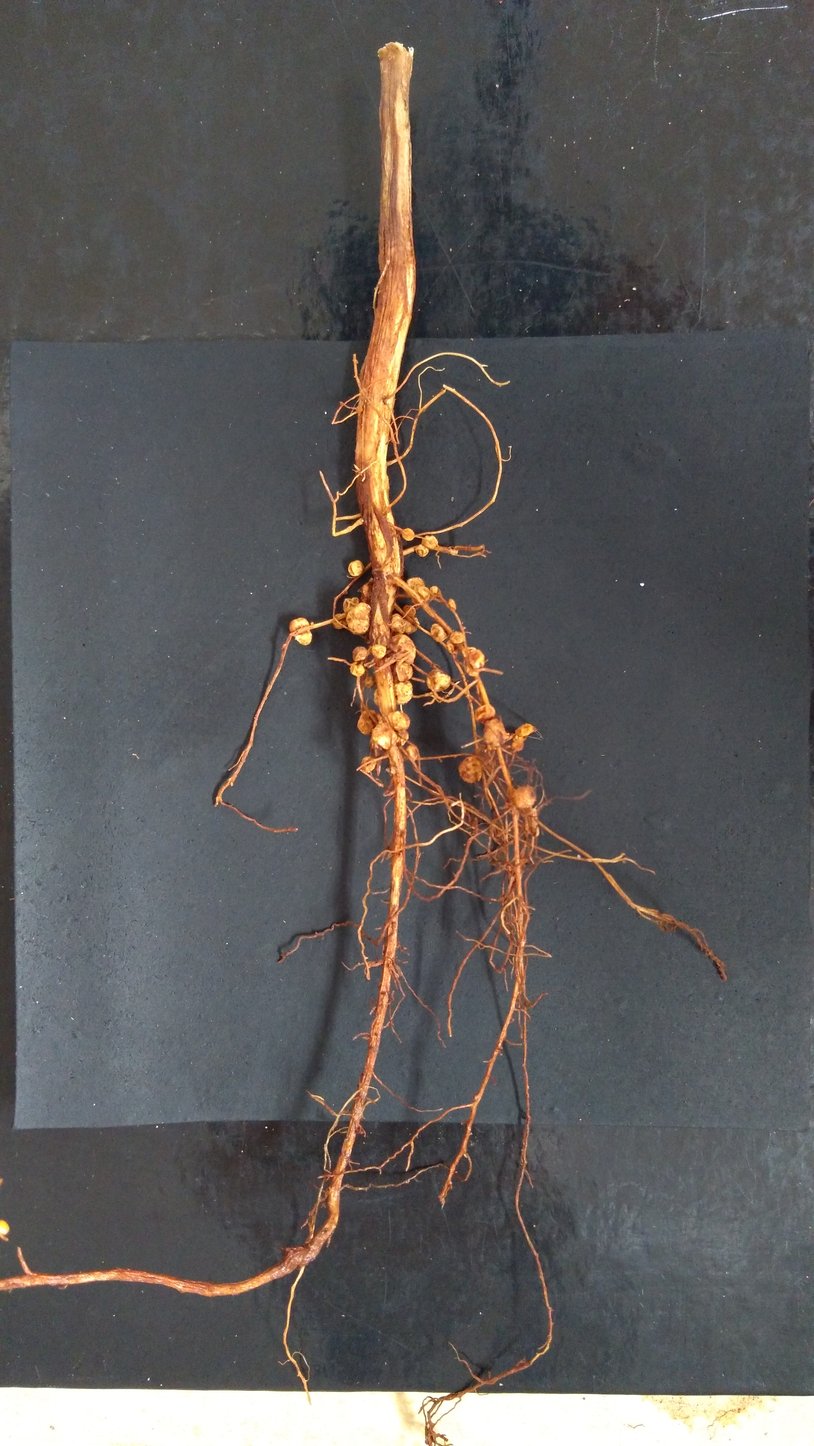nodule: (482, 717, 511, 751), (368, 721, 398, 751), (346, 601, 372, 635), (390, 633, 417, 665), (288, 616, 314, 647), (461, 646, 486, 678), (426, 667, 453, 696), (356, 708, 383, 736), (458, 755, 482, 786), (512, 783, 538, 811), (472, 703, 499, 724), (392, 680, 414, 705), (388, 709, 411, 730), (393, 661, 414, 683), (429, 622, 449, 643), (405, 576, 426, 595), (403, 616, 421, 637), (331, 612, 350, 631), (390, 613, 406, 634), (515, 722, 536, 738), (360, 755, 378, 773), (347, 559, 364, 578), (341, 597, 360, 614), (360, 579, 374, 602), (510, 734, 527, 752), (419, 534, 439, 549), (350, 646, 368, 662), (404, 744, 419, 763), (400, 526, 416, 543), (349, 661, 365, 678), (395, 729, 410, 747), (413, 543, 429, 558), (372, 643, 386, 660), (448, 630, 464, 644), (400, 605, 417, 618), (417, 585, 430, 599), (373, 688, 380, 707), (363, 676, 374, 688), (446, 639, 455, 653), (429, 585, 439, 596), (448, 598, 456, 611)
